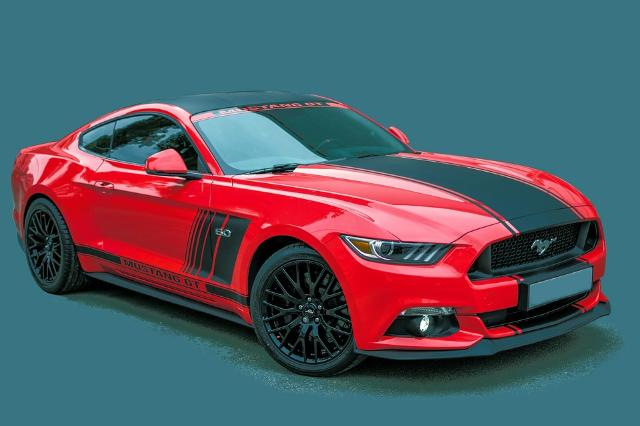ford-mustang: (10, 90, 612, 379)
